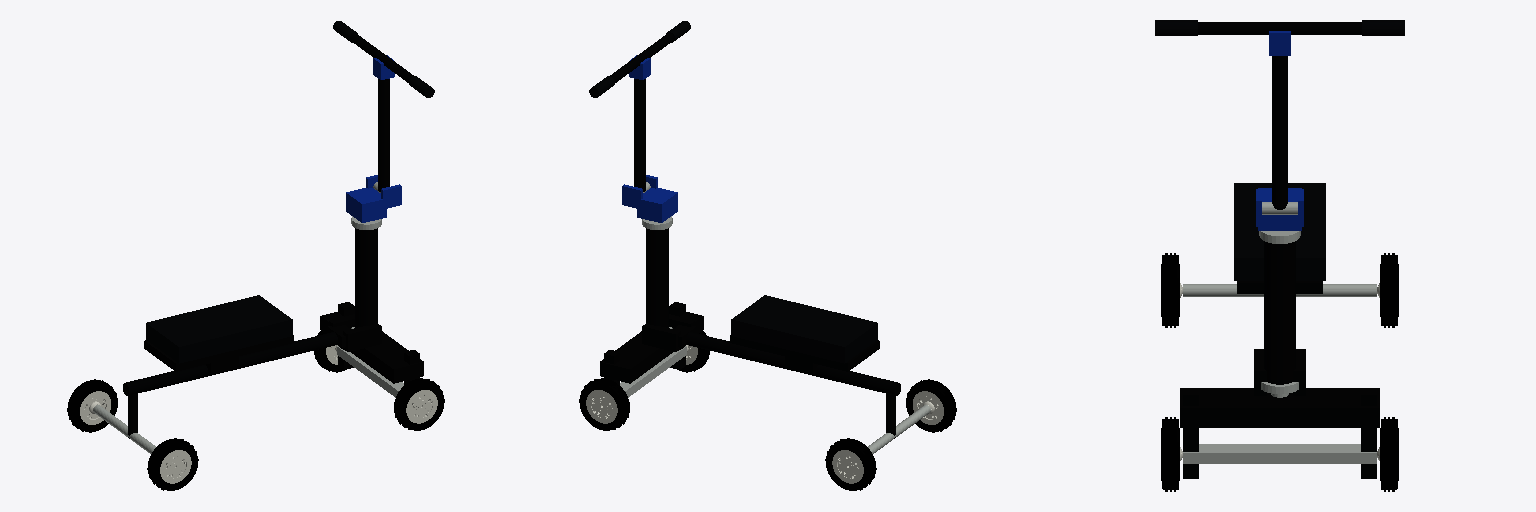
URDF robot description (foldable_knee_scooter):
<robot name="foldable_knee_scooter">
  <material name="satin_black_frame">
    <color rgba="0.02 0.022 0.024 1" />
    </material>
  <material name="brushed_steel">
    <color rgba="0.62 0.64 0.62 1" />
    </material>
  <material name="soft_knee_pad">
    <color rgba="0.03 0.035 0.04 1" />
    </material>
  <material name="matte_rubber">
    <color rgba="0.006 0.006 0.006 1" />
    </material>
  <material name="silver_rim">
    <color rgba="0.78 0.78 0.74 1" />
    </material>
  <material name="blue_clamp_hardware">
    <color rgba="0.06 0.18 0.55 1" />
    </material>
  <link name="center_frame">
    <visual name="main_tube">
      <origin xyz="-0.09 0 0.32" rpy="0 1.5708 0" />
      <geometry>
        <cylinder radius="0.026" length="0.98" />
        </geometry>
      <material name="satin_black_frame">
        <color rgba="0.02 0.022 0.024 1" />
        </material>
      </visual>
    <visual name="rear_axle">
      <origin xyz="-0.55 0 0.12" rpy="-1.5708 0 0" />
      <geometry>
        <cylinder radius="0.018" length="0.544" />
        </geometry>
      <material name="brushed_steel">
        <color rgba="0.62 0.64 0.62 1" />
        </material>
      </visual>
    <visual name="rear_drop">
      <origin xyz="-0.55 0 0.22" rpy="0 0 0" />
      <geometry>
        <cylinder radius="0.018" length="0.215" />
        </geometry>
      <material name="satin_black_frame">
        <color rgba="0.02 0.022 0.024 1" />
        </material>
      </visual>
    <visual name="pad_pedestal">
      <origin xyz="-0.17 0 0.375" rpy="0 0 0" />
      <geometry>
        <box size="0.125 0.09 0.11" />
        </geometry>
      <material name="satin_black_frame">
        <color rgba="0.02 0.022 0.024 1" />
        </material>
      </visual>
    <visual name="pad_plate">
      <origin xyz="-0.17 0 0.425" rpy="0 0 0" />
      <geometry>
        <box size="0.52 0.24 0.035" />
        </geometry>
      <material name="satin_black_frame">
        <color rgba="0.02 0.022 0.024 1" />
        </material>
      </visual>
    <visual name="knee_pad">
      <origin xyz="-0.17 0 0.4775" rpy="0 0 0" />
      <geometry>
        <box size="0.5 0.255 0.07" />
        </geometry>
      <material name="soft_knee_pad">
        <color rgba="0.03 0.035 0.04 1" />
        </material>
      </visual>
    <visual name="head_lug_0">
      <origin xyz="0.43 0.055 0.325" rpy="0 0 0" />
      <geometry>
        <box size="0.15 0.035 0.075" />
        </geometry>
      <material name="satin_black_frame">
        <color rgba="0.02 0.022 0.024 1" />
        </material>
      </visual>
    <visual name="head_lug_1">
      <origin xyz="0.43 -0.055 0.325" rpy="0 0 0" />
      <geometry>
        <box size="0.15 0.035 0.075" />
        </geometry>
      <material name="satin_black_frame">
        <color rgba="0.02 0.022 0.024 1" />
        </material>
      </visual>
    <visual name="head_bridge">
      <origin xyz="0.372 0 0.325" rpy="0 0 0" />
      <geometry>
        <box size="0.065 0.112 0.046" />
        </geometry>
      <material name="satin_black_frame">
        <color rgba="0.02 0.022 0.024 1" />
        </material>
      </visual>
    <visual name="head_tube">
      <origin xyz="0.48 0 0.55" rpy="0 0 0" />
      <geometry>
        <cylinder radius="0.045" length="0.48" />
        </geometry>
      <material name="satin_black_frame">
        <color rgba="0.02 0.022 0.024 1" />
        </material>
      </visual>
    <visual name="lower_bearing">
      <origin xyz="0.48 0 0.318" rpy="0 0 0" />
      <geometry>
        <cylinder radius="0.058" length="0.024" />
        </geometry>
      <material name="brushed_steel">
        <color rgba="0.62 0.64 0.62 1" />
        </material>
      </visual>
    <visual name="upper_bearing">
      <origin xyz="0.48 0 0.782" rpy="0 0 0" />
      <geometry>
        <cylinder radius="0.058" length="0.024" />
        </geometry>
      <material name="brushed_steel">
        <color rgba="0.62 0.64 0.62 1" />
        </material>
      </visual>
    <collision name="main_tube">
      <origin xyz="-0.09 0 0.32" rpy="0 1.5708 0" />
      <geometry>
        <cylinder radius="0.026" length="0.98" />
        </geometry>
      </collision>
    <collision name="rear_axle">
      <origin xyz="-0.55 0 0.12" rpy="-1.5708 0 0" />
      <geometry>
        <cylinder radius="0.018" length="0.544" />
        </geometry>
      </collision>
    <collision name="rear_drop">
      <origin xyz="-0.55 0 0.22" rpy="0 0 0" />
      <geometry>
        <cylinder radius="0.018" length="0.215" />
        </geometry>
      </collision>
    <collision name="pad_pedestal">
      <origin xyz="-0.17 0 0.375" rpy="0 0 0" />
      <geometry>
        <box size="0.125 0.09 0.11" />
        </geometry>
      </collision>
    <collision name="pad_plate">
      <origin xyz="-0.17 0 0.425" rpy="0 0 0" />
      <geometry>
        <box size="0.52 0.24 0.035" />
        </geometry>
      </collision>
    <collision name="knee_pad">
      <origin xyz="-0.17 0 0.4775" rpy="0 0 0" />
      <geometry>
        <box size="0.5 0.255 0.07" />
        </geometry>
      </collision>
    <collision name="head_lug_0">
      <origin xyz="0.43 0.055 0.325" rpy="0 0 0" />
      <geometry>
        <box size="0.15 0.035 0.075" />
        </geometry>
      </collision>
    <collision name="head_lug_1">
      <origin xyz="0.43 -0.055 0.325" rpy="0 0 0" />
      <geometry>
        <box size="0.15 0.035 0.075" />
        </geometry>
      </collision>
    <collision name="head_bridge">
      <origin xyz="0.372 0 0.325" rpy="0 0 0" />
      <geometry>
        <box size="0.065 0.112 0.046" />
        </geometry>
      </collision>
    <collision name="head_tube">
      <origin xyz="0.48 0 0.55" rpy="0 0 0" />
      <geometry>
        <cylinder radius="0.045" length="0.48" />
        </geometry>
      </collision>
    <collision name="lower_bearing">
      <origin xyz="0.48 0 0.318" rpy="0 0 0" />
      <geometry>
        <cylinder radius="0.058" length="0.024" />
        </geometry>
      </collision>
    <collision name="upper_bearing">
      <origin xyz="0.48 0 0.782" rpy="0 0 0" />
      <geometry>
        <cylinder radius="0.058" length="0.024" />
        </geometry>
      </collision>
    </link>
  <link name="front_fork">
    <visual name="steerer">
      <origin xyz="0 0 0.02" rpy="0 0 0" />
      <geometry>
        <cylinder radius="0.024" length="0.62" />
        </geometry>
      <material name="brushed_steel">
        <color rgba="0.62 0.64 0.62 1" />
        </material>
      </visual>
    <visual name="fork_crown">
      <origin xyz="0.025 0 -0.3" rpy="0 0 0" />
      <geometry>
        <box size="0.135 0.56 0.06" />
        </geometry>
      <material name="satin_black_frame">
        <color rgba="0.02 0.022 0.024 1" />
        </material>
      </visual>
    <visual name="fork_leg_0">
      <origin xyz="0.055 0.25 -0.365" rpy="0 0 0" />
      <geometry>
        <box size="0.046 0.045 0.26" />
        </geometry>
      <material name="satin_black_frame">
        <color rgba="0.02 0.022 0.024 1" />
        </material>
      </visual>
    <visual name="fork_leg_1">
      <origin xyz="0.055 -0.25 -0.365" rpy="0 0 0" />
      <geometry>
        <box size="0.046 0.045 0.26" />
        </geometry>
      <material name="satin_black_frame">
        <color rgba="0.02 0.022 0.024 1" />
        </material>
      </visual>
    <visual name="front_axle">
      <origin xyz="0.055 0 -0.43" rpy="0 0 0" />
      <geometry>
        <box size="0.055 0.544 0.036" />
        </geometry>
      <material name="brushed_steel">
        <color rgba="0.62 0.64 0.62 1" />
        </material>
      </visual>
    <visual name="clamp_block">
      <origin xyz="0 0 0.3" rpy="0 0 0" />
      <geometry>
        <box size="0.11 0.125 0.08" />
        </geometry>
      <material name="blue_clamp_hardware">
        <color rgba="0.06 0.18 0.55 1" />
        </material>
      </visual>
    <visual name="hinge_ear_0">
      <origin xyz="0.076 0.059 0.34" rpy="0 0 0" />
      <geometry>
        <box size="0.082 0.018 0.08" />
        </geometry>
      <material name="blue_clamp_hardware">
        <color rgba="0.06 0.18 0.55 1" />
        </material>
      </visual>
    <visual name="hinge_ear_1">
      <origin xyz="0.076 -0.059 0.34" rpy="0 0 0" />
      <geometry>
        <box size="0.082 0.018 0.08" />
        </geometry>
      <material name="blue_clamp_hardware">
        <color rgba="0.06 0.18 0.55 1" />
        </material>
      </visual>
    <collision name="steerer">
      <origin xyz="0 0 0.02" rpy="0 0 0" />
      <geometry>
        <cylinder radius="0.024" length="0.62" />
        </geometry>
      </collision>
    <collision name="fork_crown">
      <origin xyz="0.025 0 -0.3" rpy="0 0 0" />
      <geometry>
        <box size="0.135 0.56 0.06" />
        </geometry>
      </collision>
    <collision name="fork_leg_0">
      <origin xyz="0.055 0.25 -0.365" rpy="0 0 0" />
      <geometry>
        <box size="0.046 0.045 0.26" />
        </geometry>
      </collision>
    <collision name="fork_leg_1">
      <origin xyz="0.055 -0.25 -0.365" rpy="0 0 0" />
      <geometry>
        <box size="0.046 0.045 0.26" />
        </geometry>
      </collision>
    <collision name="front_axle">
      <origin xyz="0.055 0 -0.43" rpy="0 0 0" />
      <geometry>
        <box size="0.055 0.544 0.036" />
        </geometry>
      </collision>
    <collision name="clamp_block">
      <origin xyz="0 0 0.3" rpy="0 0 0" />
      <geometry>
        <box size="0.11 0.125 0.08" />
        </geometry>
      </collision>
    <collision name="hinge_ear_0">
      <origin xyz="0.076 0.059 0.34" rpy="0 0 0" />
      <geometry>
        <box size="0.082 0.018 0.08" />
        </geometry>
      </collision>
    <collision name="hinge_ear_1">
      <origin xyz="0.076 -0.059 0.34" rpy="0 0 0" />
      <geometry>
        <box size="0.082 0.018 0.08" />
        </geometry>
      </collision>
    </link>
  <link name="upper_stem">
    <visual name="hinge_barrel">
      <origin xyz="0 0 0" rpy="-1.5708 0 0" />
      <geometry>
        <cylinder radius="0.018" length="0.1" />
        </geometry>
      <material name="brushed_steel">
        <color rgba="0.62 0.64 0.62 1" />
        </material>
      </visual>
    <visual name="main_stem">
      <origin xyz="0 0 0.27" rpy="0 0 0" />
      <geometry>
        <cylinder radius="0.022" length="0.53" />
        </geometry>
      <material name="satin_black_frame">
        <color rgba="0.02 0.022 0.024 1" />
        </material>
      </visual>
    <visual name="bar_clamp">
      <origin xyz="0 0 0.52" rpy="0 0 0" />
      <geometry>
        <box size="0.06 0.06 0.07" />
        </geometry>
      <material name="blue_clamp_hardware">
        <color rgba="0.06 0.18 0.55 1" />
        </material>
      </visual>
    <visual name="handlebar">
      <origin xyz="0 0 0.555" rpy="-1.5708 0 0" />
      <geometry>
        <cylinder radius="0.018" length="0.5" />
        </geometry>
      <material name="satin_black_frame">
        <color rgba="0.02 0.022 0.024 1" />
        </material>
      </visual>
    <visual name="grip_0">
      <origin xyz="0 0.29 0.555" rpy="-1.5708 0 0" />
      <geometry>
        <cylinder radius="0.022" length="0.12" />
        </geometry>
      <material name="soft_knee_pad">
        <color rgba="0.03 0.035 0.04 1" />
        </material>
      </visual>
    <visual name="grip_1">
      <origin xyz="0 -0.29 0.555" rpy="-1.5708 0 0" />
      <geometry>
        <cylinder radius="0.022" length="0.12" />
        </geometry>
      <material name="soft_knee_pad">
        <color rgba="0.03 0.035 0.04 1" />
        </material>
      </visual>
    <collision name="hinge_barrel">
      <origin xyz="0 0 0" rpy="-1.5708 0 0" />
      <geometry>
        <cylinder radius="0.018" length="0.1" />
        </geometry>
      </collision>
    <collision name="main_stem">
      <origin xyz="0 0 0.27" rpy="0 0 0" />
      <geometry>
        <cylinder radius="0.022" length="0.53" />
        </geometry>
      </collision>
    <collision name="bar_clamp">
      <origin xyz="0 0 0.52" rpy="0 0 0" />
      <geometry>
        <box size="0.06 0.06 0.07" />
        </geometry>
      </collision>
    <collision name="handlebar">
      <origin xyz="0 0 0.555" rpy="-1.5708 0 0" />
      <geometry>
        <cylinder radius="0.018" length="0.5" />
        </geometry>
      </collision>
    <collision name="grip_0">
      <origin xyz="0 0.29 0.555" rpy="-1.5708 0 0" />
      <geometry>
        <cylinder radius="0.022" length="0.12" />
        </geometry>
      </collision>
    <collision name="grip_1">
      <origin xyz="0 -0.29 0.555" rpy="-1.5708 0 0" />
      <geometry>
        <cylinder radius="0.022" length="0.12" />
        </geometry>
      </collision>
    </link>
  <link name="rear_wheel_0">
    <visual name="tire">
      <origin xyz="0 0 0" rpy="0 0 -1.5708" />
      <geometry>
        <mesh filename="assets/meshes/scooter_tire.obj" />
        </geometry>
      <material name="matte_rubber">
        <color rgba="0.006 0.006 0.006 1" />
        </material>
      </visual>
    <visual name="rim">
      <origin xyz="0 0 0" rpy="0 0 -1.5708" />
      <geometry>
        <mesh filename="assets/meshes/scooter_wheel_rim.obj" />
        </geometry>
      <material name="silver_rim">
        <color rgba="0.78 0.78 0.74 1" />
        </material>
      </visual>
    <collision name="tire">
      <origin xyz="0 0 0" rpy="0 0 -1.5708" />
      <geometry>
        <mesh filename="assets/meshes/scooter_tire.obj" />
        </geometry>
      </collision>
    <collision name="rim">
      <origin xyz="0 0 0" rpy="0 0 -1.5708" />
      <geometry>
        <mesh filename="assets/meshes/scooter_wheel_rim.obj" />
        </geometry>
      </collision>
    </link>
  <link name="rear_wheel_1">
    <visual name="tire">
      <origin xyz="0 0 0" rpy="0 0 1.5708" />
      <geometry>
        <mesh filename="assets/meshes/scooter_tire.obj" />
        </geometry>
      <material name="matte_rubber">
        <color rgba="0.006 0.006 0.006 1" />
        </material>
      </visual>
    <visual name="rim">
      <origin xyz="0 0 0" rpy="0 0 1.5708" />
      <geometry>
        <mesh filename="assets/meshes/scooter_wheel_rim.obj" />
        </geometry>
      <material name="silver_rim">
        <color rgba="0.78 0.78 0.74 1" />
        </material>
      </visual>
    <collision name="tire">
      <origin xyz="0 0 0" rpy="0 0 1.5708" />
      <geometry>
        <mesh filename="assets/meshes/scooter_tire.obj" />
        </geometry>
      </collision>
    <collision name="rim">
      <origin xyz="0 0 0" rpy="0 0 1.5708" />
      <geometry>
        <mesh filename="assets/meshes/scooter_wheel_rim.obj" />
        </geometry>
      </collision>
    </link>
  <link name="front_wheel_0">
    <visual name="tire">
      <origin xyz="0 0 0" rpy="0 0 -1.5708" />
      <geometry>
        <mesh filename="assets/meshes/scooter_tire.obj" />
        </geometry>
      <material name="matte_rubber">
        <color rgba="0.006 0.006 0.006 1" />
        </material>
      </visual>
    <visual name="rim">
      <origin xyz="0 0 0" rpy="0 0 -1.5708" />
      <geometry>
        <mesh filename="assets/meshes/scooter_wheel_rim.obj" />
        </geometry>
      <material name="silver_rim">
        <color rgba="0.78 0.78 0.74 1" />
        </material>
      </visual>
    <collision name="tire">
      <origin xyz="0 0 0" rpy="0 0 -1.5708" />
      <geometry>
        <mesh filename="assets/meshes/scooter_tire.obj" />
        </geometry>
      </collision>
    <collision name="rim">
      <origin xyz="0 0 0" rpy="0 0 -1.5708" />
      <geometry>
        <mesh filename="assets/meshes/scooter_wheel_rim.obj" />
        </geometry>
      </collision>
    </link>
  <link name="front_wheel_1">
    <visual name="tire">
      <origin xyz="0 0 0" rpy="0 0 1.5708" />
      <geometry>
        <mesh filename="assets/meshes/scooter_tire.obj" />
        </geometry>
      <material name="matte_rubber">
        <color rgba="0.006 0.006 0.006 1" />
        </material>
      </visual>
    <visual name="rim">
      <origin xyz="0 0 0" rpy="0 0 1.5708" />
      <geometry>
        <mesh filename="assets/meshes/scooter_wheel_rim.obj" />
        </geometry>
      <material name="silver_rim">
        <color rgba="0.78 0.78 0.74 1" />
        </material>
      </visual>
    <collision name="tire">
      <origin xyz="0 0 0" rpy="0 0 1.5708" />
      <geometry>
        <mesh filename="assets/meshes/scooter_tire.obj" />
        </geometry>
      </collision>
    <collision name="rim">
      <origin xyz="0 0 0" rpy="0 0 1.5708" />
      <geometry>
        <mesh filename="assets/meshes/scooter_wheel_rim.obj" />
        </geometry>
      </collision>
    </link>
  <joint name="frame_to_fork" type="revolute">
    <origin xyz="0.48 0 0.55" rpy="0 0 0" />
    <parent link="center_frame" />
    <child link="front_fork" />
    <axis xyz="0 0 1" />
    <limit effort="20" velocity="2" lower="-0.75" upper="0.75" />
    </joint>
  <joint name="fork_to_stem" type="revolute">
    <origin xyz="0.076 0 0.34" rpy="0 0 0" />
    <parent link="front_fork" />
    <child link="upper_stem" />
    <axis xyz="0 1 0" />
    <limit effort="12" velocity="1.5" lower="0" upper="1.45" />
    </joint>
  <joint name="rear_wheel_joint_0" type="continuous">
    <origin xyz="-0.55 0.306 0.12" rpy="0 0 0" />
    <parent link="center_frame" />
    <child link="rear_wheel_0" />
    <axis xyz="0 1 0" />
    <limit effort="4" velocity="20" />
    </joint>
  <joint name="rear_wheel_joint_1" type="continuous">
    <origin xyz="-0.55 -0.306 0.12" rpy="0 0 0" />
    <parent link="center_frame" />
    <child link="rear_wheel_1" />
    <axis xyz="0 1 0" />
    <limit effort="4" velocity="20" />
    </joint>
  <joint name="front_wheel_joint_0" type="continuous">
    <origin xyz="0.055 0.306 -0.43" rpy="0 0 0" />
    <parent link="front_fork" />
    <child link="front_wheel_0" />
    <axis xyz="0 1 0" />
    <limit effort="4" velocity="20" />
    </joint>
  <joint name="front_wheel_joint_1" type="continuous">
    <origin xyz="0.055 -0.306 -0.43" rpy="0 0 0" />
    <parent link="front_fork" />
    <child link="front_wheel_1" />
    <axis xyz="0 1 0" />
    <limit effort="4" velocity="20" />
    </joint>
  </robot>

--- Facts derived from the render (not from the file) ---
The picture shows the robot from 3 angles, left to right: view 1: azimuth 30°, elevation 25°; view 2: azimuth 150°, elevation 25°; view 3: azimuth 270°, elevation 25°; orthographic projection.
Robot: foldable_knee_scooter — 7 links, 6 joints (2 revolute, 4 continuous); root link center_frame; default pose: every joint at zero.
Links seen in each view (by area): view 1: center_frame, front_fork, upper_stem, rear_wheel_1, front_wheel_1, rear_wheel_0; view 2: center_frame, front_fork, upper_stem, rear_wheel_0, front_wheel_0, rear_wheel_1; view 3: front_fork, center_frame, upper_stem, rear_wheel_0, rear_wheel_1, front_wheel_0, front_wheel_1.
Link boxes in pixels (<box>): center_frame: <box>93,216,381,453</box>; front_fork: <box>320,175,423,397</box>; upper_stem: <box>333,21,434,192</box>; rear_wheel_1: <box>147,438,198,490</box>; front_wheel_1: <box>394,378,444,430</box>; rear_wheel_0: <box>67,379,117,432</box>; center_frame: <box>642,216,930,453</box>; front_fork: <box>600,175,703,397</box>; upper_stem: <box>589,21,690,192</box>; rear_wheel_0: <box>825,438,876,490</box>; front_wheel_0: <box>579,378,629,430</box>; rear_wheel_1: <box>906,379,956,432</box>; front_fork: <box>1180,188,1379,478</box>; center_frame: <box>1183,183,1376,395</box>; upper_stem: <box>1155,20,1404,214</box>; rear_wheel_0: <box>1377,253,1398,327</box>; rear_wheel_1: <box>1161,253,1182,327</box>; front_wheel_0: <box>1377,417,1398,491</box>; front_wheel_1: <box>1161,417,1182,491</box>.
Size in the robot's own frame: 1.29 by 0.7 by 1.45 metres.
Meshes: 2 distinct files referenced, 8 mesh visuals loaded (2 OBJ).
